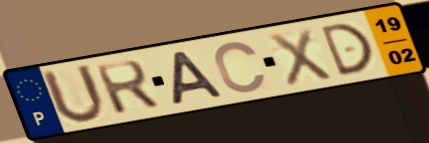A: (170, 49, 228, 107)
C: (212, 39, 269, 95)
D: (317, 20, 378, 79)
R: (91, 58, 163, 117)
U: (38, 62, 108, 126)
X: (265, 25, 336, 89)
